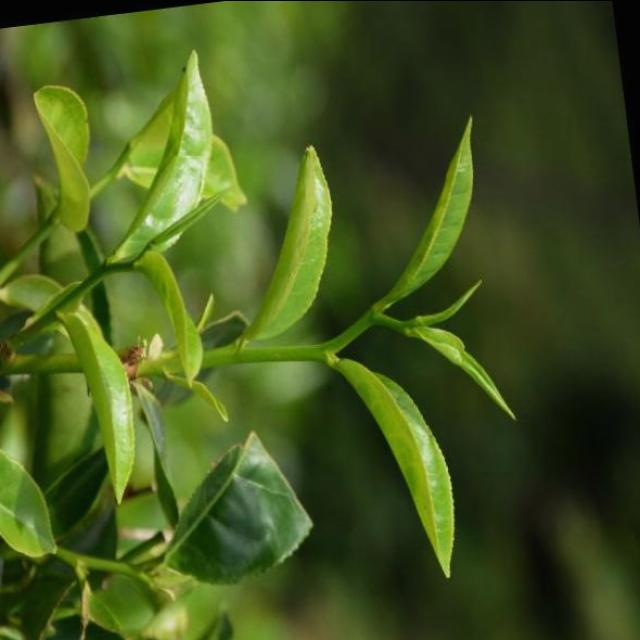Stem: (352, 312, 372, 334)
